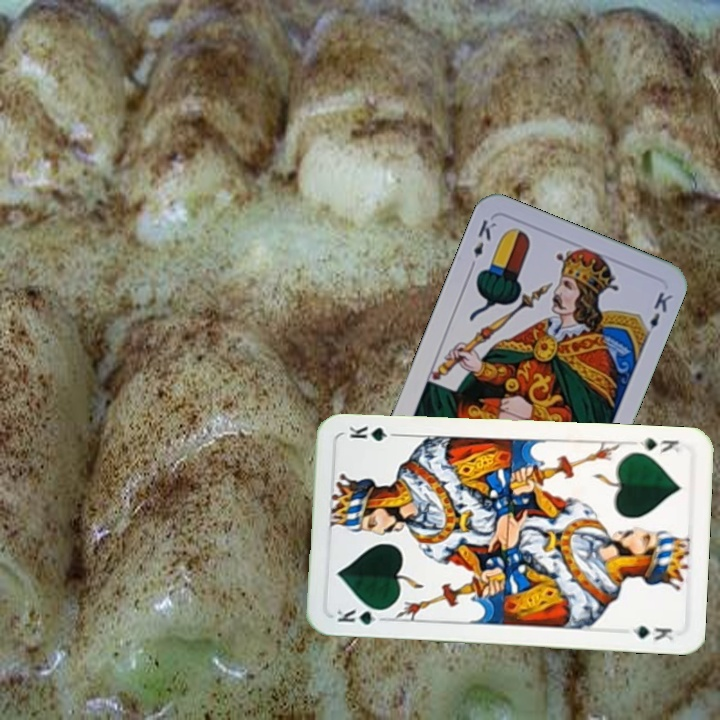EK: (465, 215, 499, 273)
GK: (333, 605, 390, 628), (636, 434, 683, 457)
